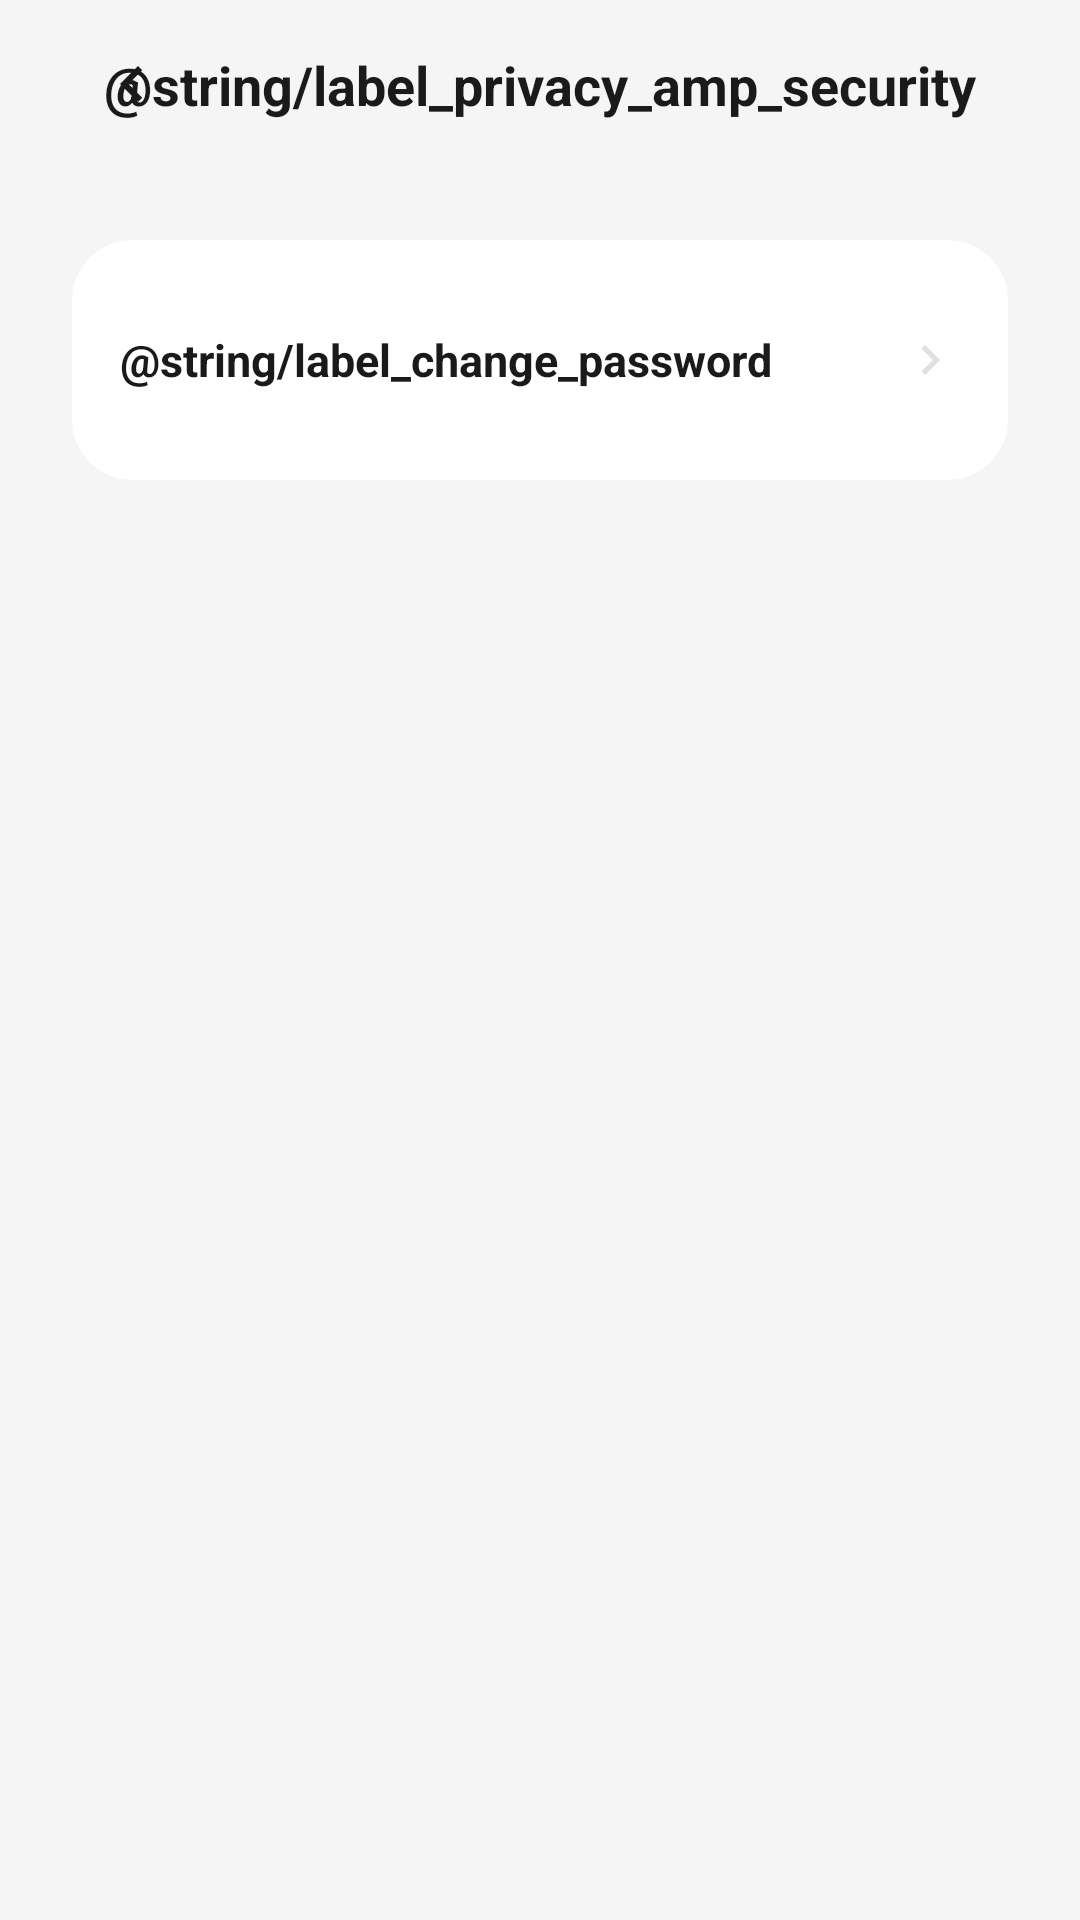

Where to tap for icons on this 1080 x 1920 app screen, as (x=x, y=y):
chevron right: (x=930, y=360)
